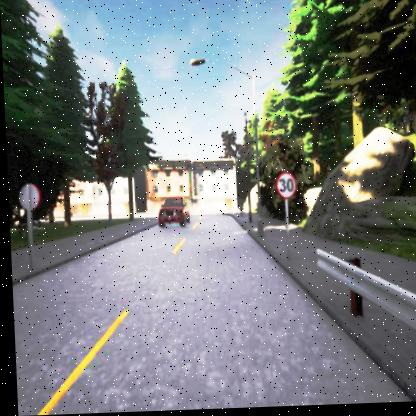vehicle: (156, 200, 186, 229)
